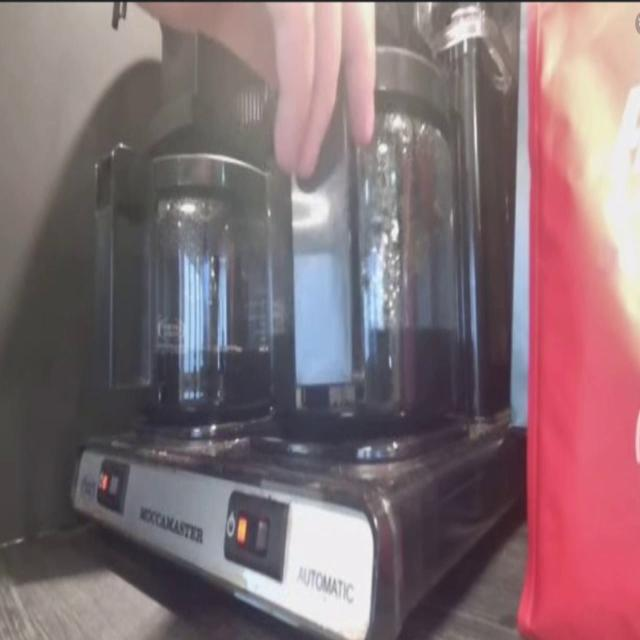coffee: (276, 191, 453, 437), (132, 208, 267, 414)
